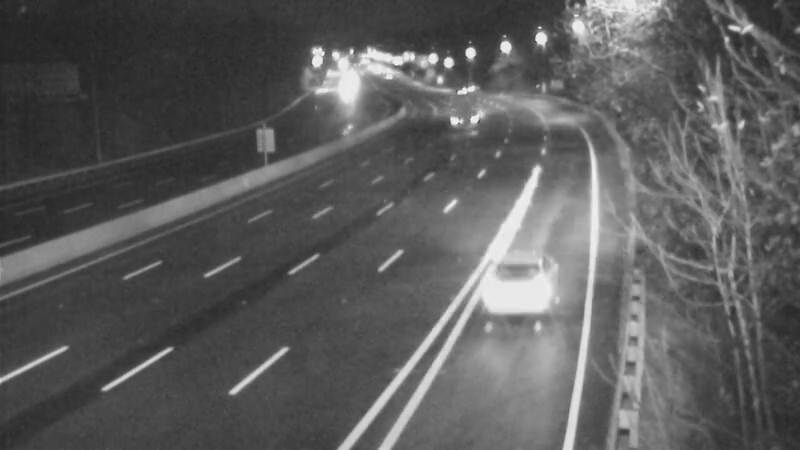vehicle: (484, 244, 564, 324), (442, 66, 492, 116), (324, 63, 374, 113)
